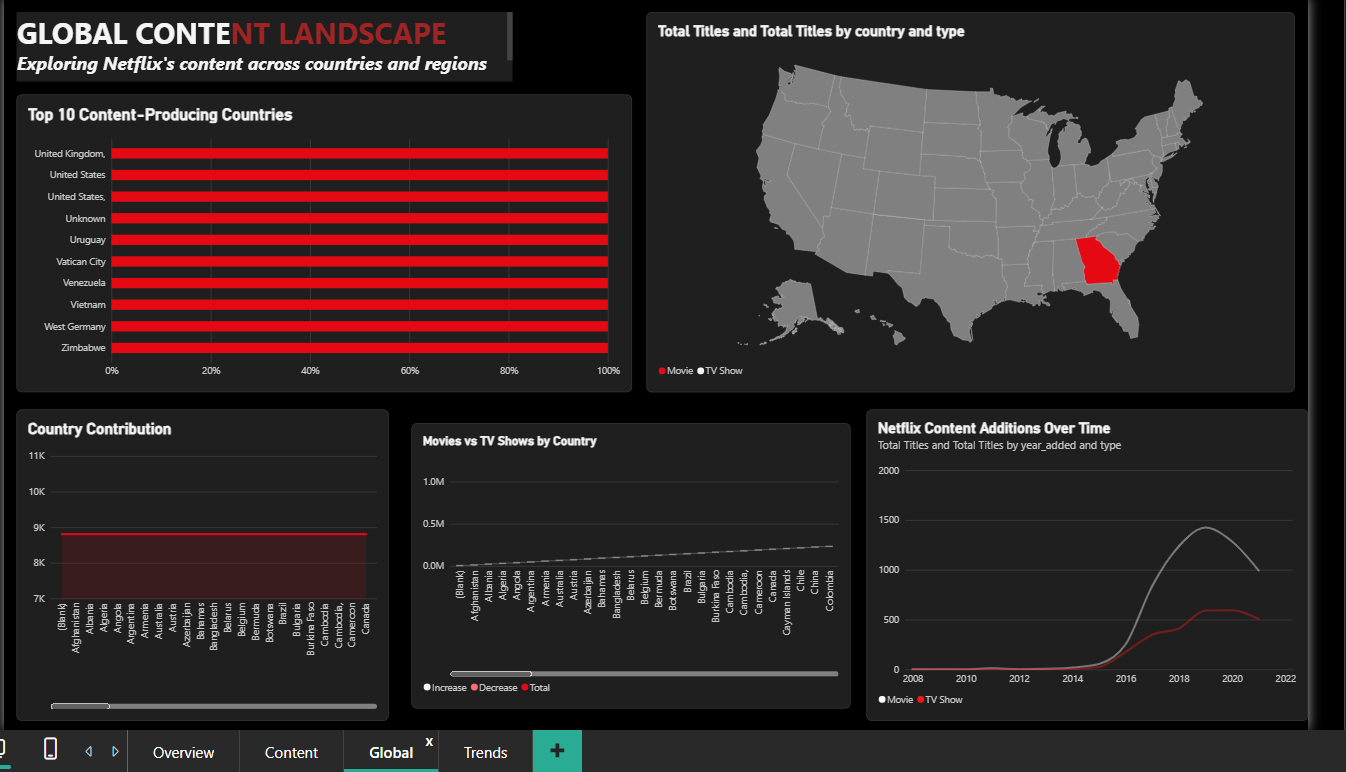

What the dashboard file says about the page in this screenshot:
{"tool":"powerbi","page":{"name":"Global ","canvas":[1920,1080],"ordinal":2},"visuals":[{"type":"textbox","box":[18,22,730,102],"z":0},{"type":"hundredPercentStackedBarChart","title":"Top 10 Content-Producing Countries","fields":{"Category":["public netflix_countries.country"],"Y":["public netflix_countries.Total Titles"]},"box":[18,144,906,438],"z":1000},{"type":"shapeMap","fields":{"Category":["public netflix_countries.country"],"Series":["public netflix_titles.type"],"Value":["public netflix_countries.Total Titles"]},"box":[946,22,954,560],"z":2000},{"type":"areaChart","title":"Country Contribution","fields":{"Category":["public netflix_countries.country"],"Y":["public netflix_countries.Total Titles"]},"box":[18,608,548,458],"z":3000},{"type":"waterfallChart","title":"Movies vs TV Shows by Country","fields":{"Category":["public netflix_countries.country","public netflix_titles.type"],"Y":["public netflix_countries.Total Titles"]},"box":[600,628,646,420],"z":4000},{"type":"lineChart","title":"Netflix Content Additions Over Time","fields":{"Category":["public netflix_titles.year_added"],"Series":["public netflix_titles.type"],"Y":["public netflix_countries.Total Titles"]},"box":[1270,608,650,458],"z":5000}]}

Visuals, with their boxes on the page's 1920x1080 design canvas (x1, y1, x2, y2). These are canvas units, not pixel positions in the 1346x772 screenshot, which may show the page scaled, cropped or inside an application window:
textbox: x1=18, y1=22, x2=748, y2=124
"Top 10 Content-Producing Countries" hundredPercentStackedBarChart: x1=18, y1=144, x2=924, y2=582
shapeMap - public netflix_countries.country x public netflix_titles.type: x1=946, y1=22, x2=1900, y2=582
"Country Contribution" areaChart: x1=18, y1=608, x2=566, y2=1066
"Movies vs TV Shows by Country" waterfallChart: x1=600, y1=628, x2=1246, y2=1048
"Netflix Content Additions Over Time" lineChart: x1=1270, y1=608, x2=1920, y2=1066
